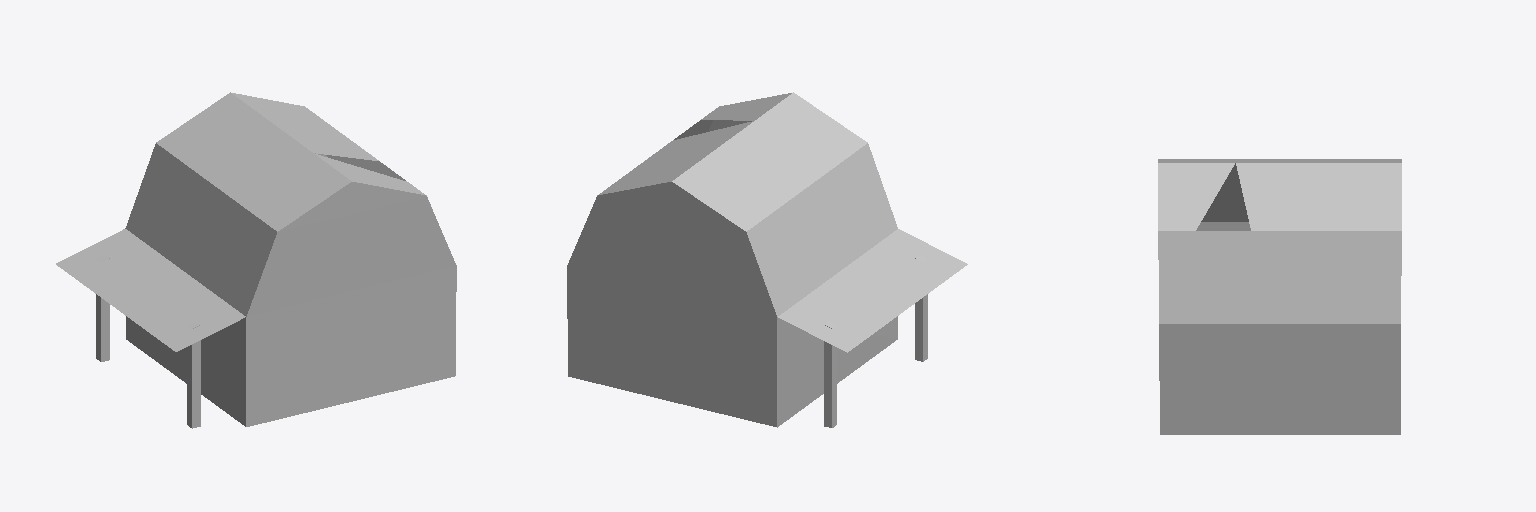
File: barn.obj
3 views of the same model, side by side, from view 1: azimuth 30°, elevation 25°; view 2: azimuth 150°, elevation 25°; view 3: azimuth 270°, elevation 25° (orthographic).
Parts seen in each view (by area): view 1: Cylinder; view 2: Cylinder; view 3: Cylinder.
Part boxes in pixels (x1,y1,x2,y2): Cylinder: (56,92,456,428); Cylinder: (567,92,967,427); Cylinder: (1158,159,1401,434).
Bounding box in the file's own units: 15.96 × 12.01 × 12.